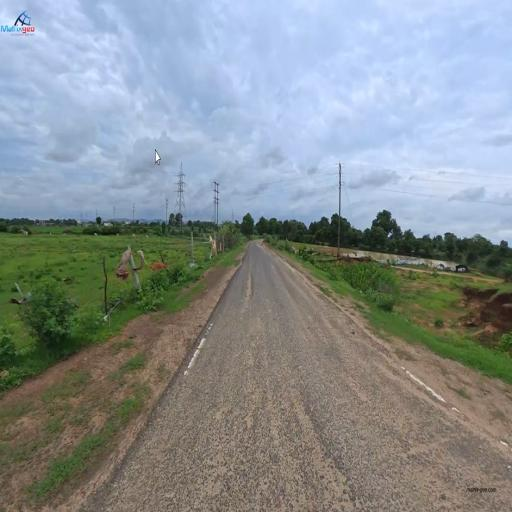ravelling: (201, 392, 358, 490)
